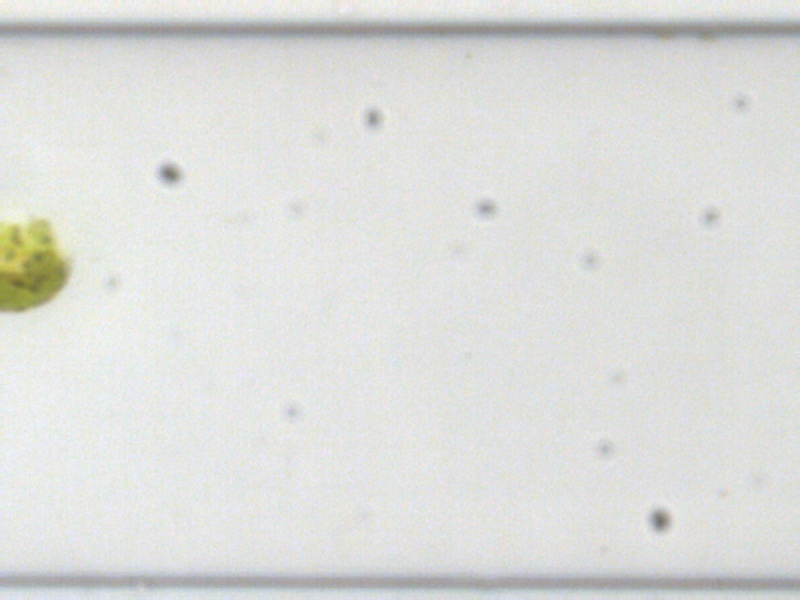Haematococcus: (0, 211, 71, 322)
